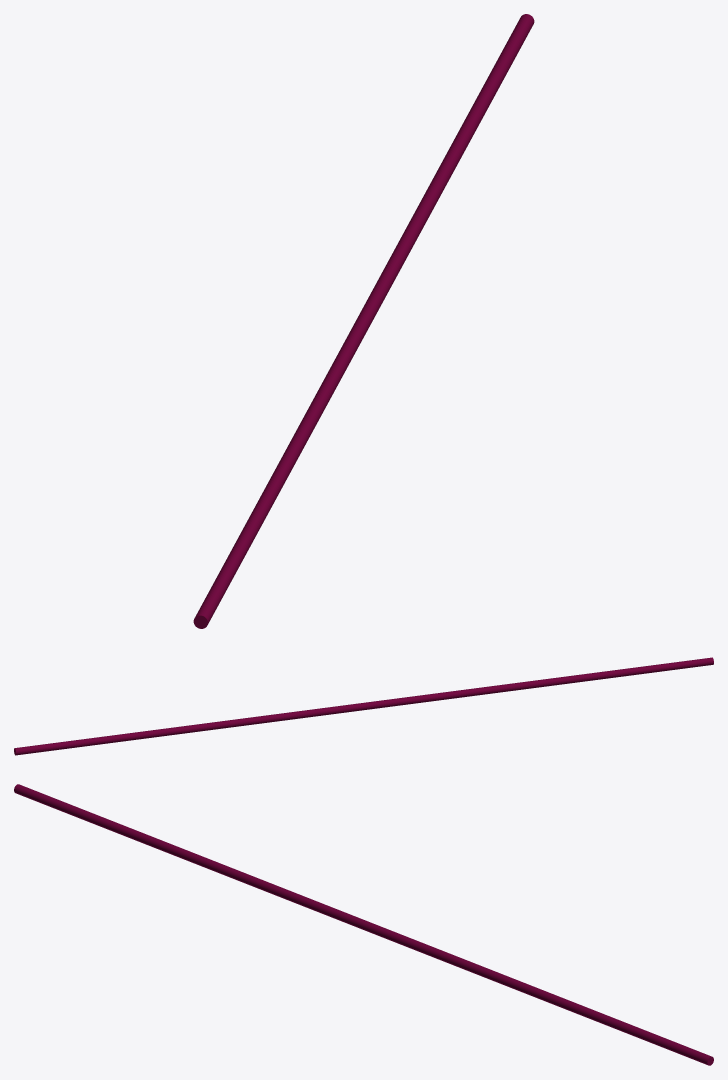
3 views of the same model, one above another, from view 1: azimuth 30°, elevation 25°; view 2: azimuth 150°, elevation 25°; view 3: azimuth 270°, elevation 25° (orthographic). The views are drawn at different scales.
Visible parts, largest first — view 1: Cylinder.001; view 2: Cylinder.001; view 3: Cylinder.001.
Part boxes in pixels (x1,y1,x2,y2): Cylinder.001: (193, 14, 534, 628); Cylinder.001: (14, 657, 713, 755); Cylinder.001: (14, 784, 713, 1065).
Size of the model in its own units: 4.3 by 0.0634 by 4.62.
